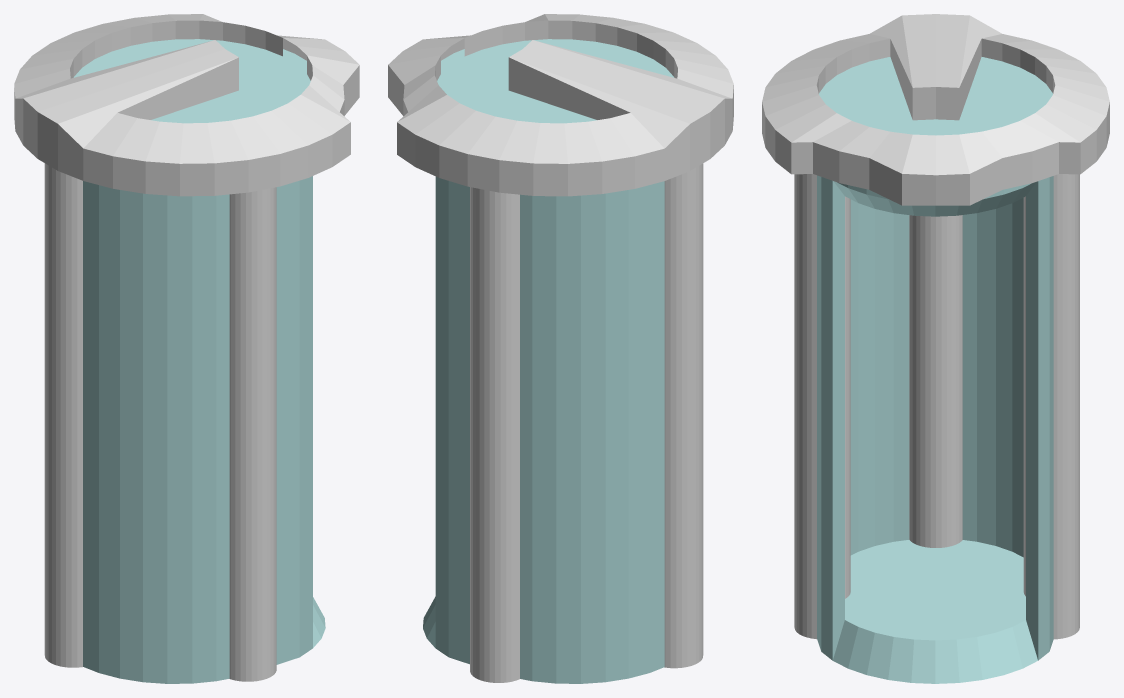
The model's file is capsula.fbx.
The picture shows the model from 3 angles, left to right: view 1: azimuth 30°, elevation 25°; view 2: azimuth 150°, elevation 25°; view 3: azimuth 270°, elevation 25°; orthographic projection. The views are drawn at different scales.
Visible parts, largest first — view 1: Cilindro.002, Cilindro, Cilindro.001, Cilindro.004; view 2: Cilindro.002, Cilindro, Cilindro.003, Cilindro.004; view 3: Cilindro.002, Cilindro, Cilindro.004, Cilindro.003, Cilindro.001.
Boxes of the visible parts, <box> form: Cilindro.002: <box>73,39,325,683</box>; Cilindro: <box>14,14,359,196</box>; Cilindro.001: <box>229,187,276,681</box>; Cilindro.004: <box>44,163,82,667</box>; Cilindro.002: <box>423,39,674,683</box>; Cilindro: <box>388,14,733,196</box>; Cilindro.003: <box>470,187,519,682</box>; Cilindro.004: <box>664,163,703,668</box>; Cilindro.002: <box>817,57,1053,683</box>; Cilindro: <box>762,14,1109,205</box>; Cilindro.004: <box>909,215,962,547</box>; Cilindro.003: <box>1023,174,1079,639</box>; Cilindro.001: <box>794,174,850,639</box>.
Bounding box in the file's own units: 1237 × 2188 × 1237.
